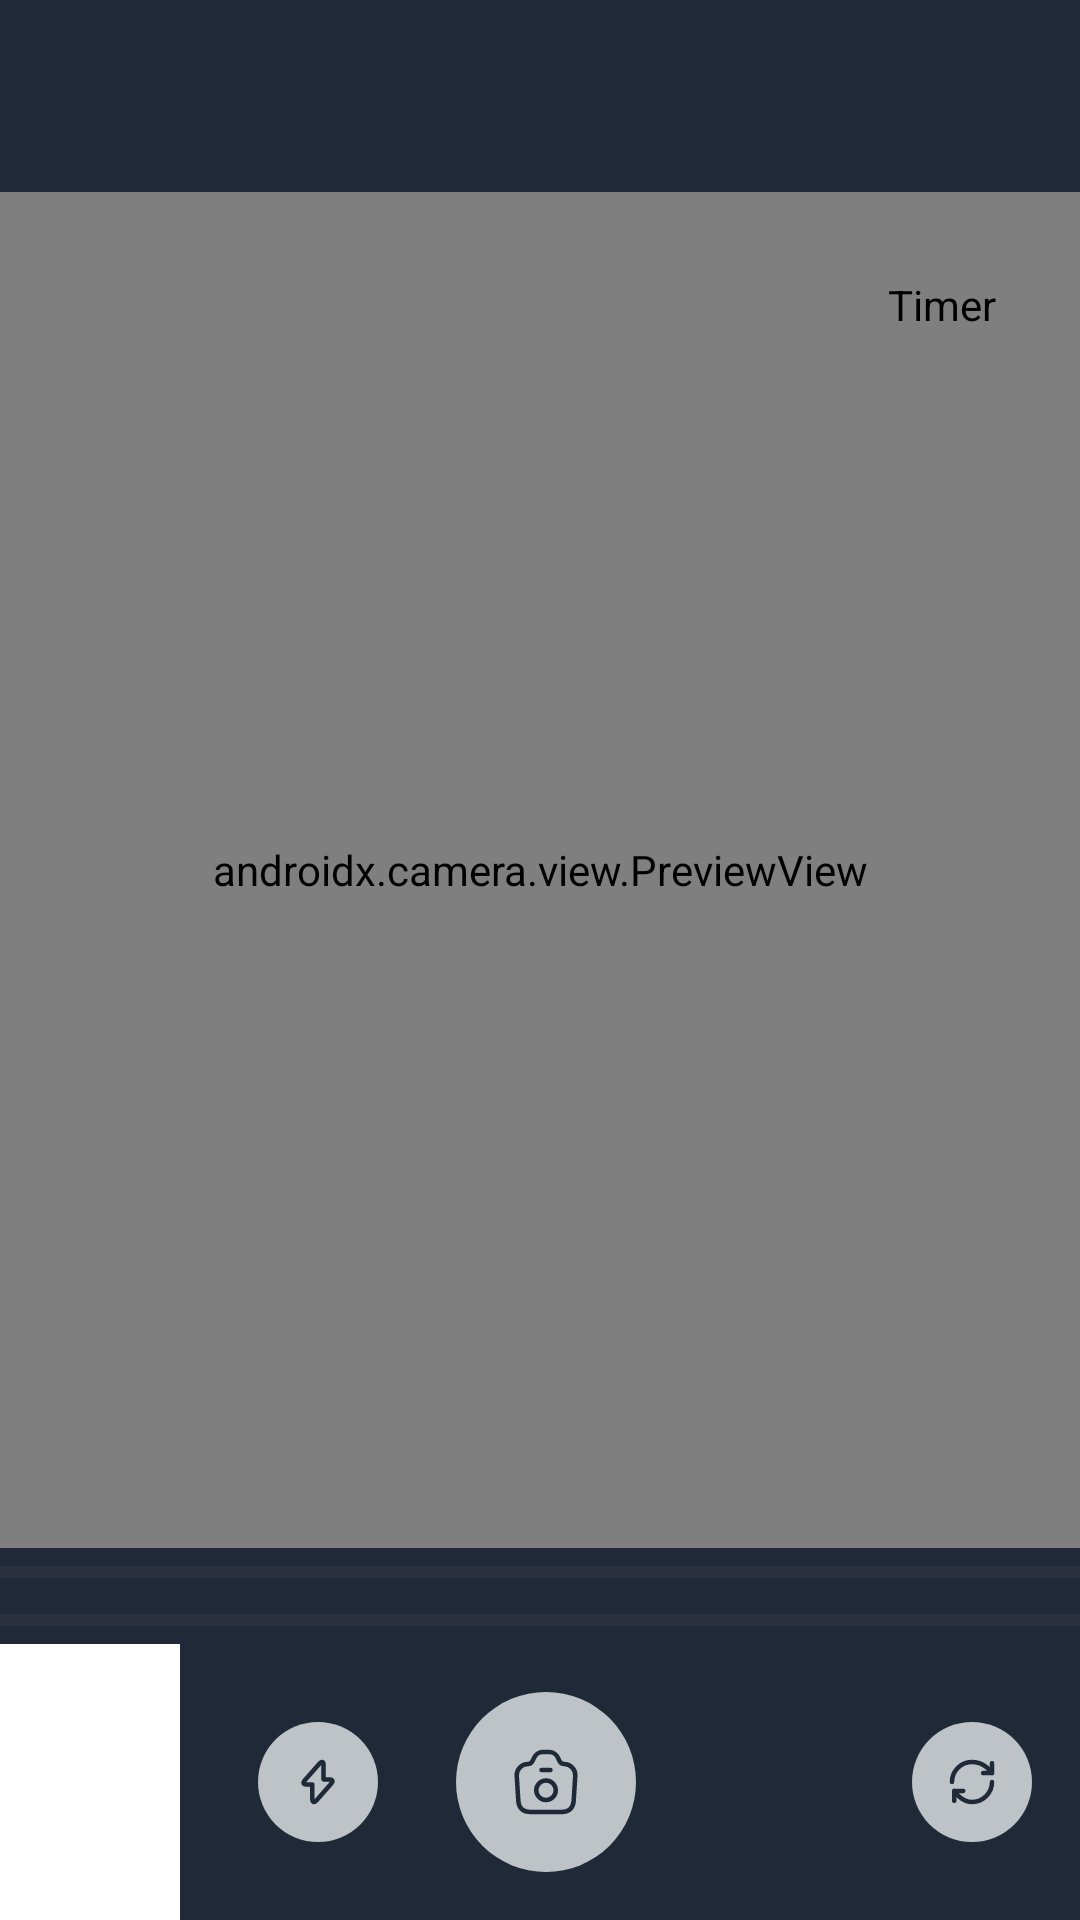

Named icons in this screenshot (1080×1920) and their bounding boxes, (x1, y1, x2, y2):
flash: (258, 1722, 378, 1842)
refresh: (912, 1722, 1032, 1842)
